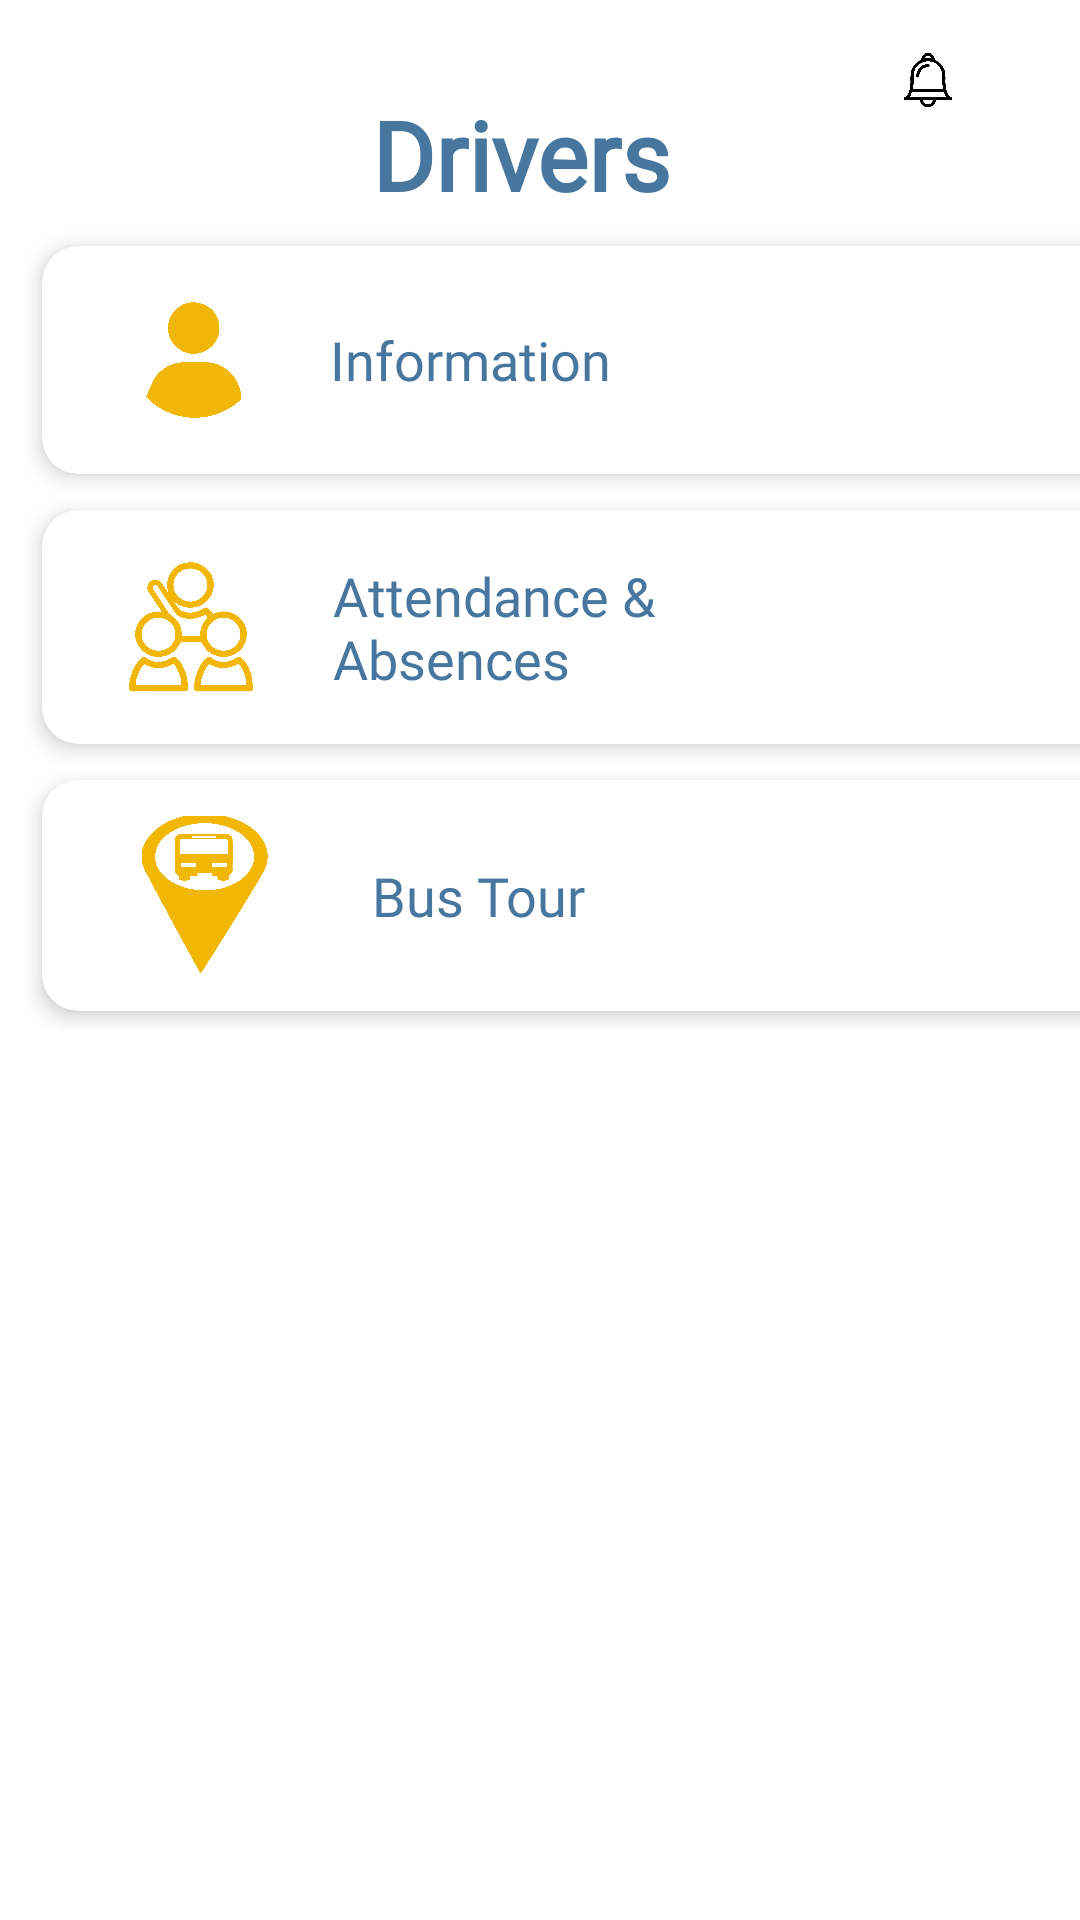

Icon click points for this 1080px×1920px phone screenshot, format point (x, y):
bellicon: point (928, 80)
busbutton: point (205, 894)
